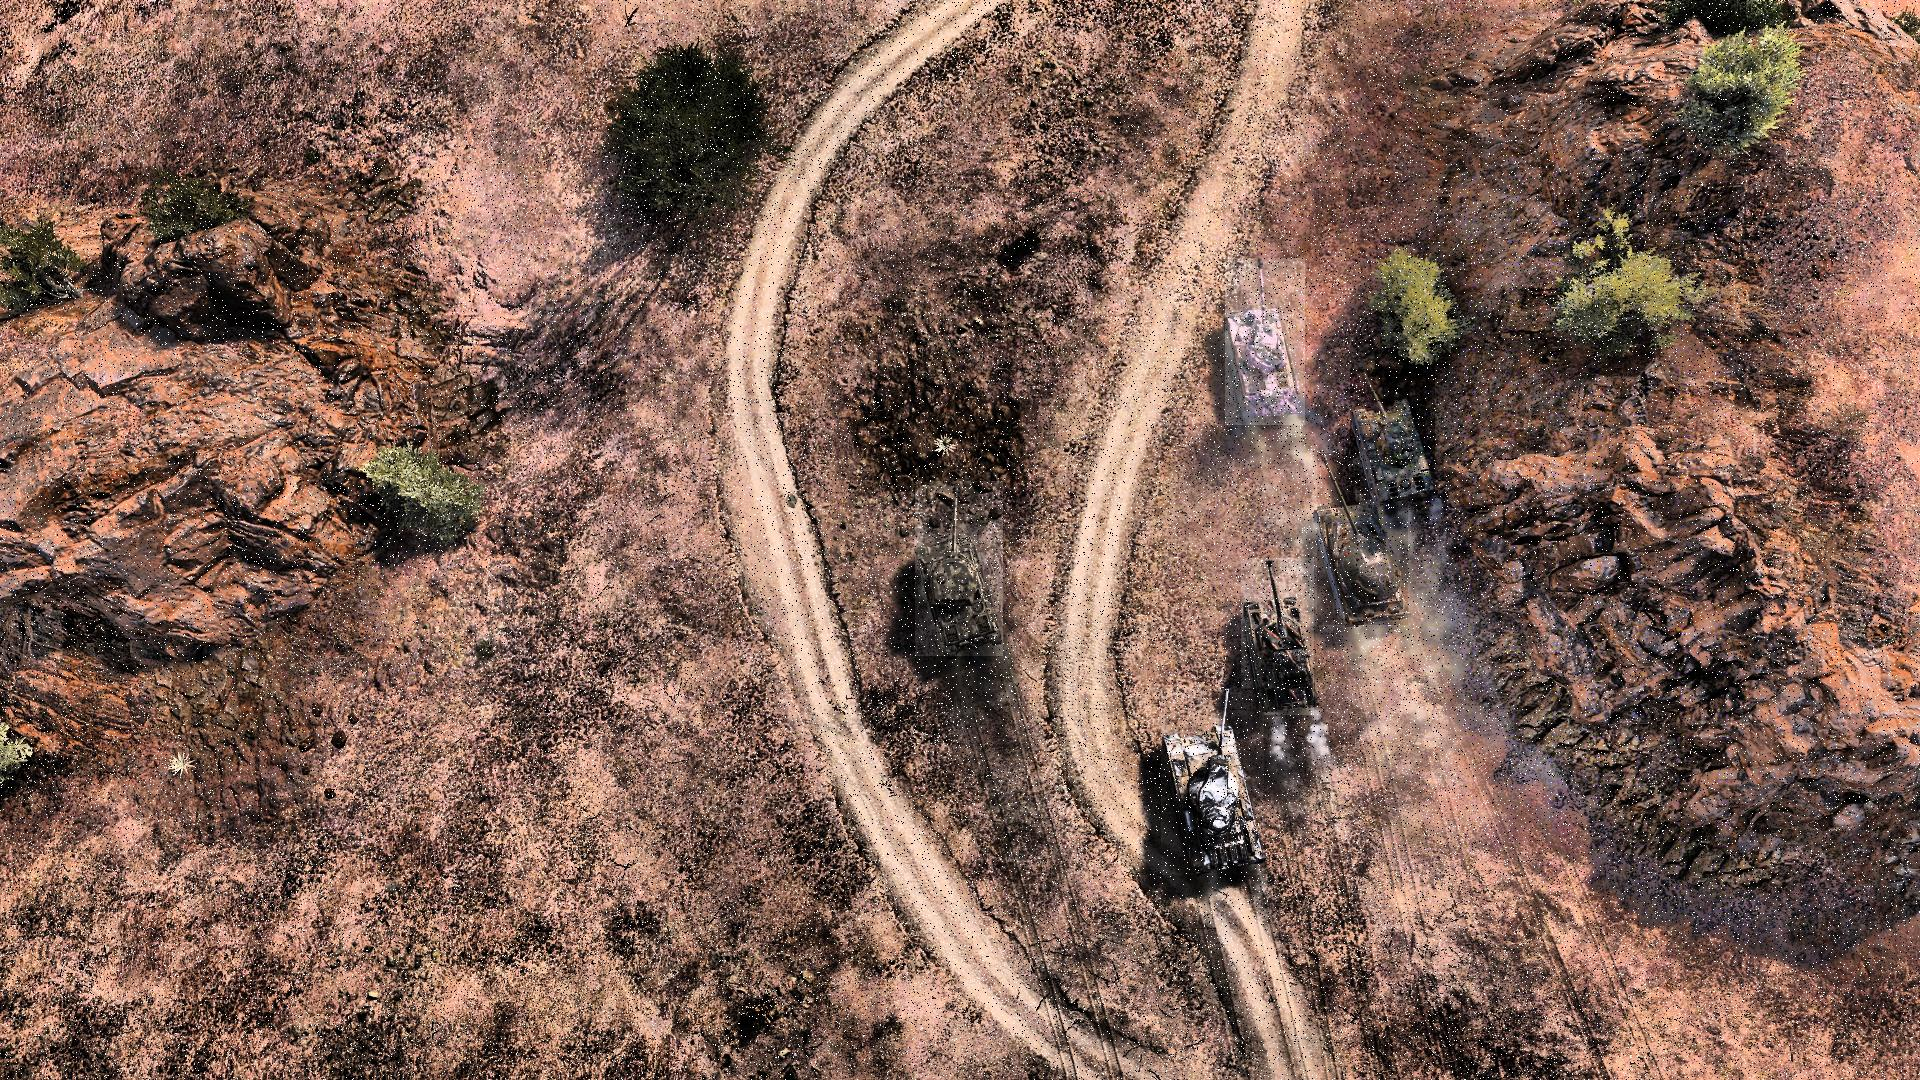military-vehicle: (1162, 688, 1265, 876), (1317, 454, 1408, 625), (915, 481, 1004, 657), (1225, 258, 1305, 425), (1242, 558, 1315, 715), (1350, 371, 1435, 501)
